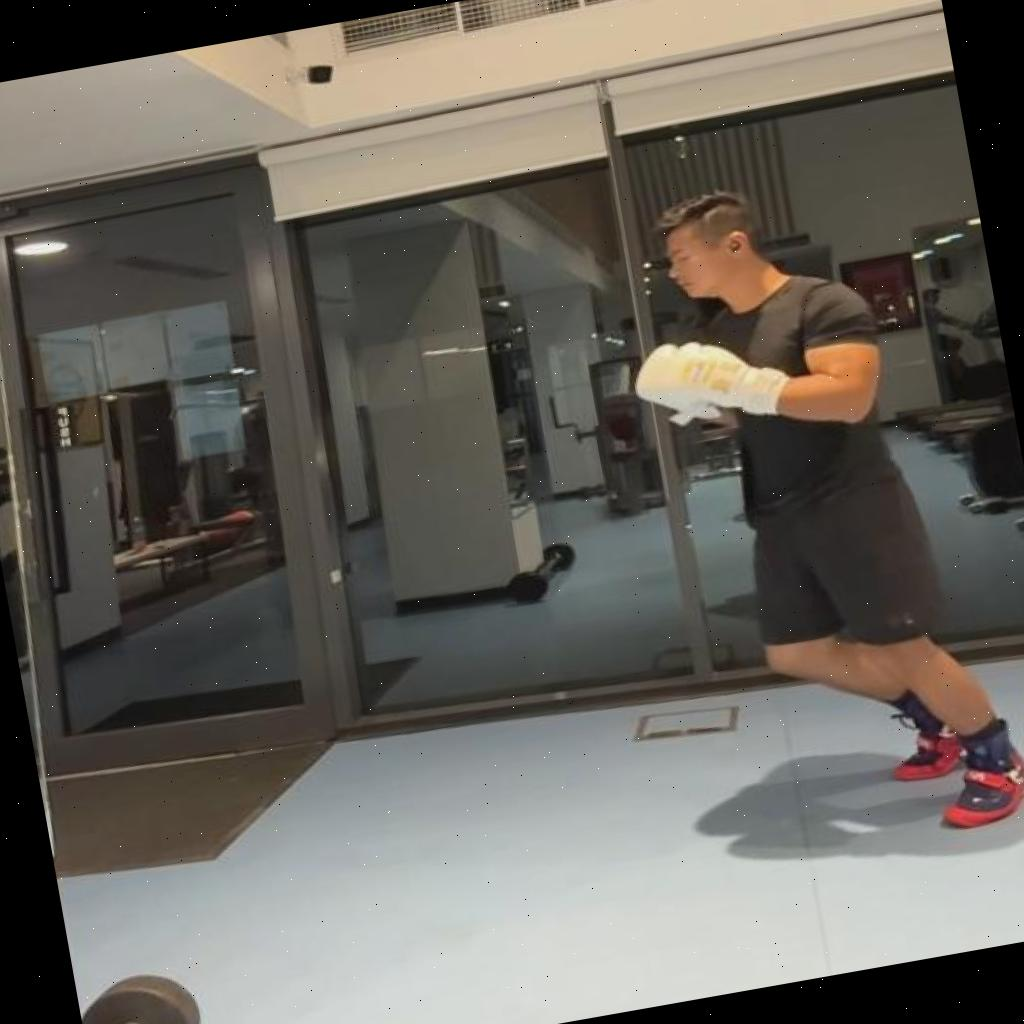no punch: (603, 149, 1024, 877)
